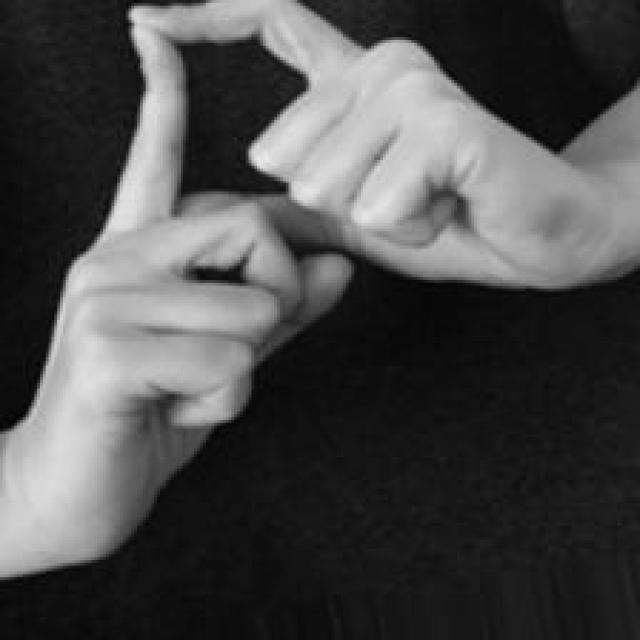D: (62, 1, 503, 568)
